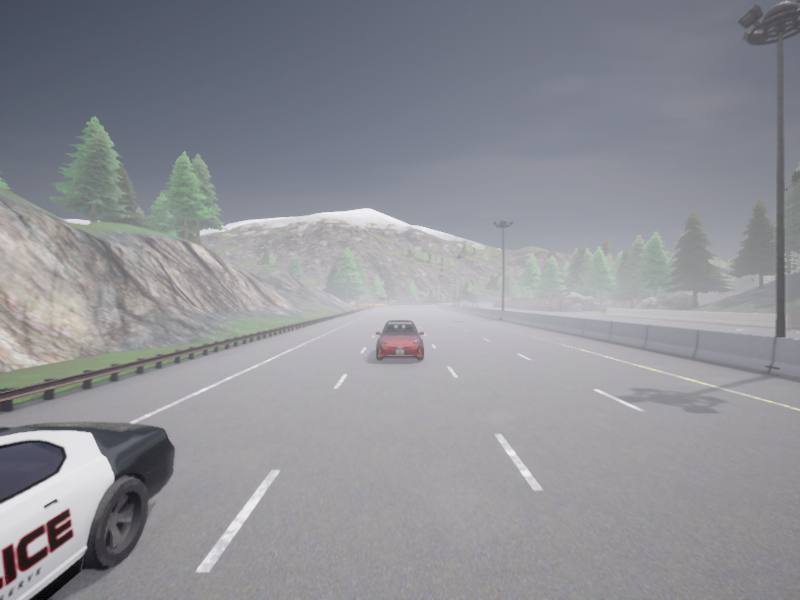vehicle: (0, 422, 174, 599), (375, 320, 424, 360), (462, 300, 468, 305), (471, 302, 477, 306), (465, 303, 469, 306), (451, 303, 456, 305)
